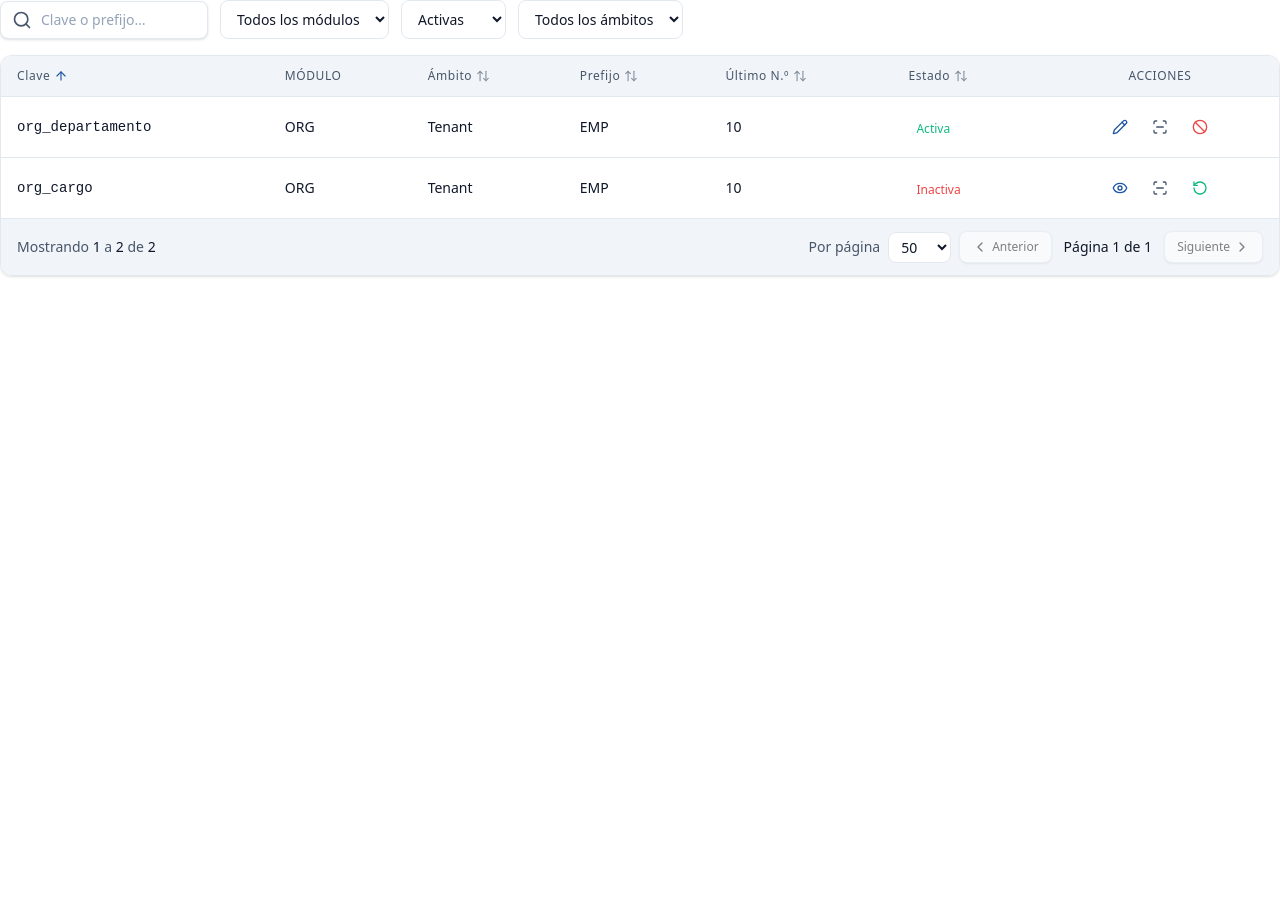
it: SecuenciasPage (Wave 5) › abre Preview Dialog y muestra estimación
The width and height of the screenshot is (1280, 900).
Click the button named "Preview código estimado" in the row of "org_departamento" at [1160, 127], box x1=1142 y1=109 x2=1178 y2=145
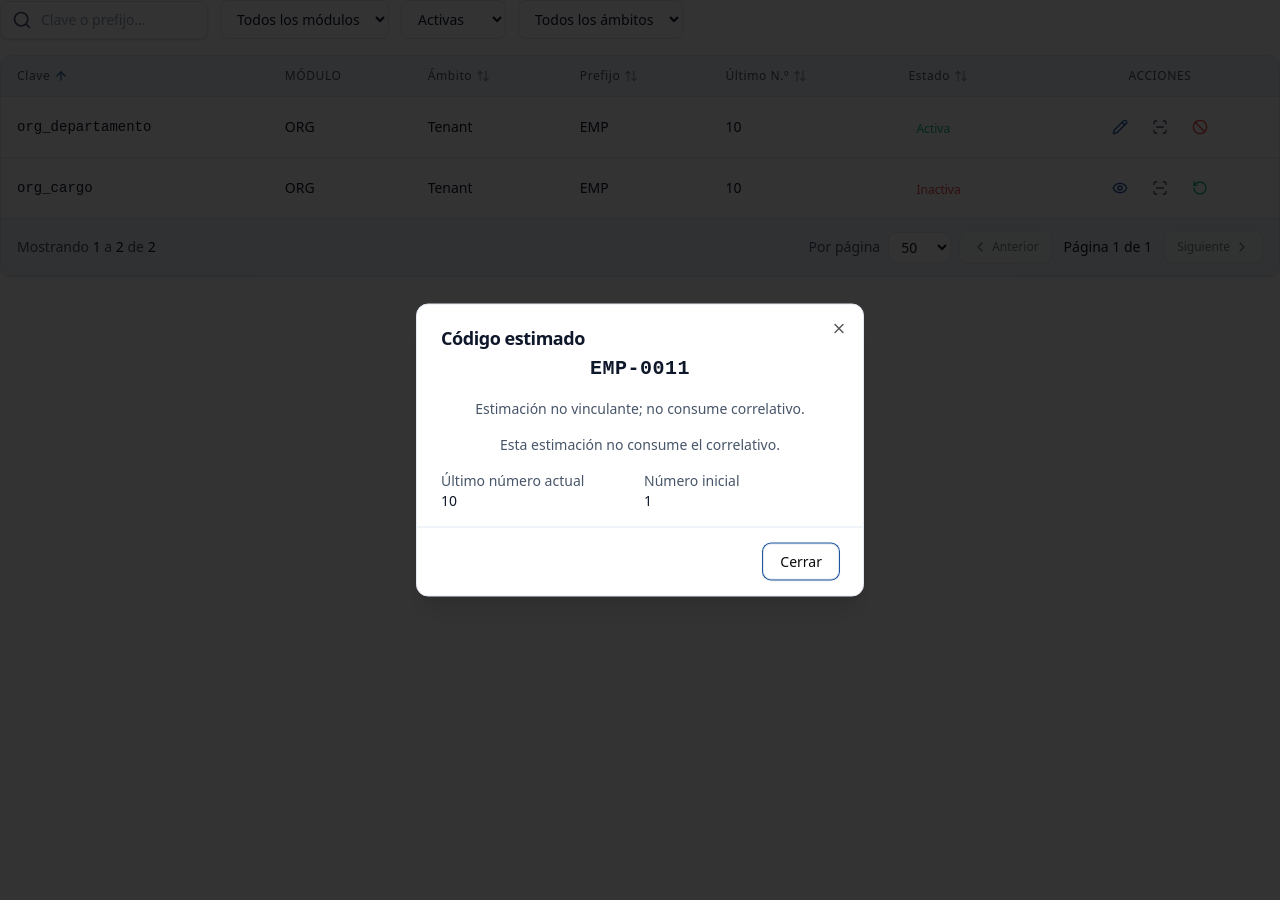
Expected: the heading "Código estimado" is shown, x1=441 y1=326 x2=585 y2=350
Expected: the text "EMP-0011" is shown, x1=590 y1=356 x2=690 y2=380
